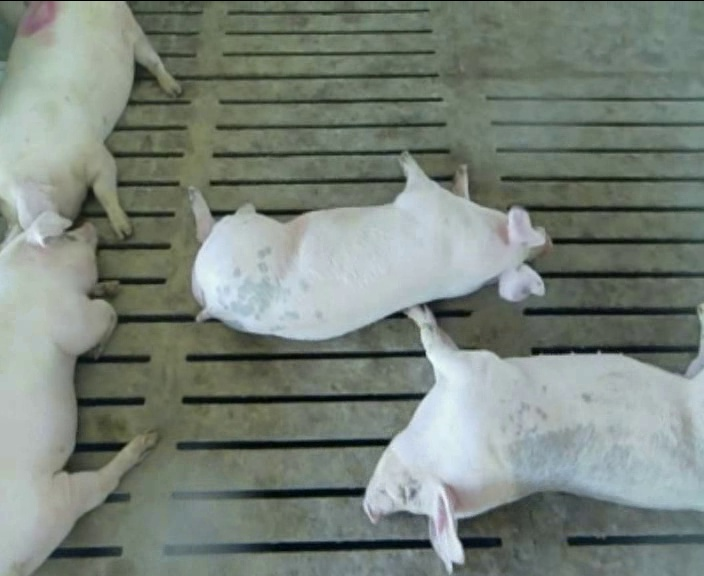pig: (364, 305, 703, 571), (189, 152, 548, 338), (0, 211, 156, 573), (0, 3, 180, 237)
